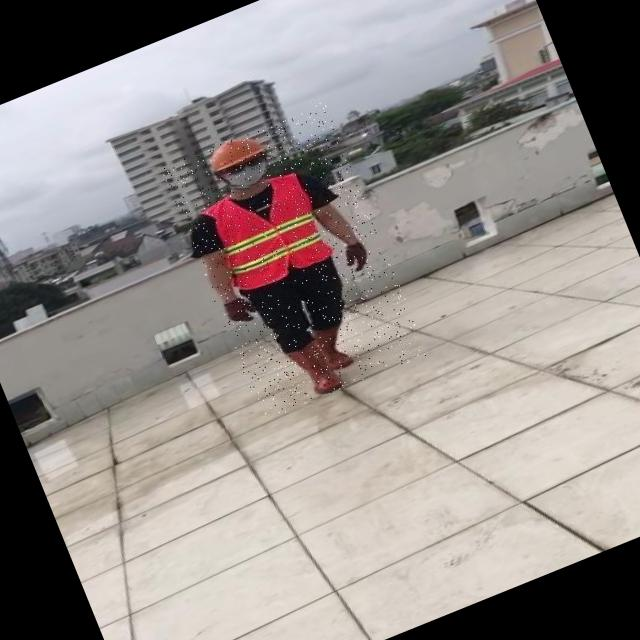hard_hat: (201, 126, 265, 174)
safety_vest: (198, 166, 338, 296)
vehicle: (160, 100, 428, 422)
work_boots: (279, 334, 344, 404), (309, 321, 353, 374)
